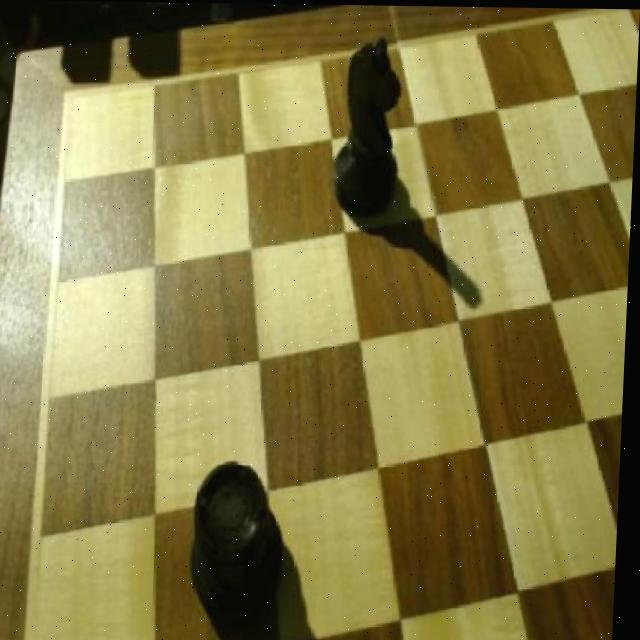black-king: (329, 30, 411, 224)
black-queen: (185, 450, 294, 638)
